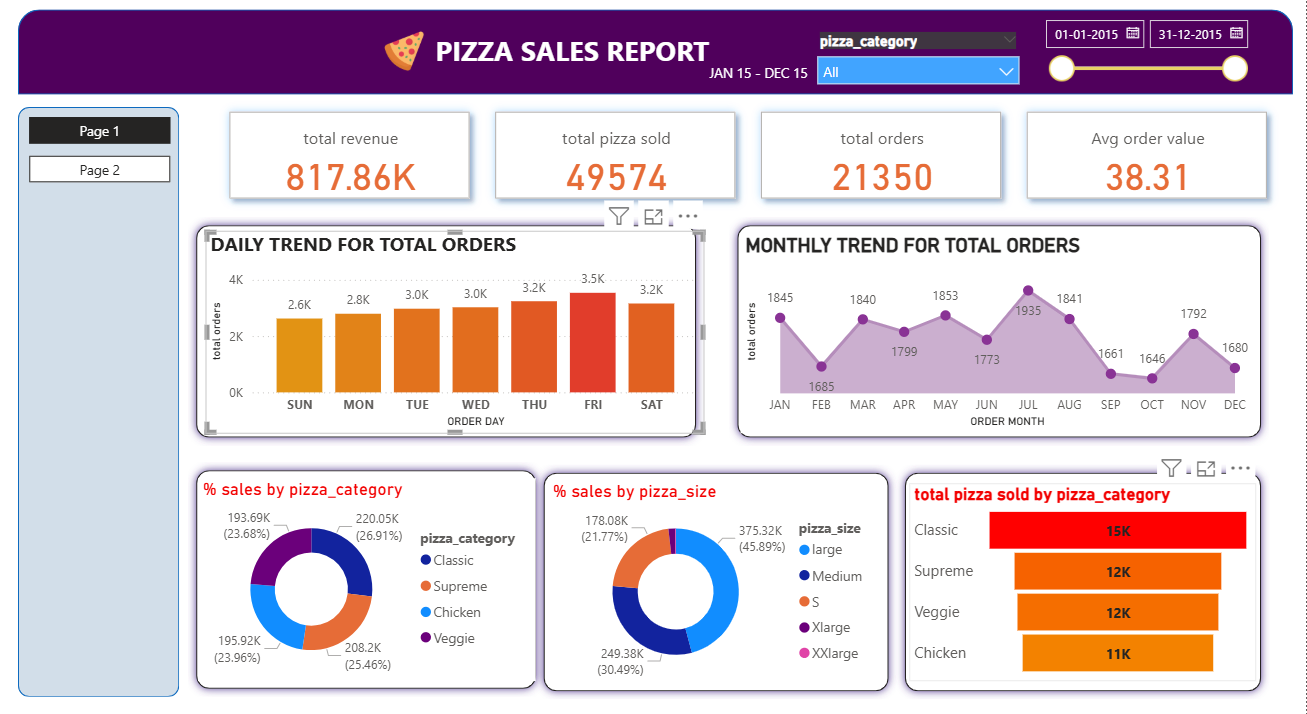

The dashboard page shown, as its layout file describes it:
{"tool":"powerbi","page":{"name":"Page 1","canvas":[1280,720],"ordinal":0},"visuals":[{"type":"cardVisual","fields":{"Data":["pizza_sales.total revenue","pizza_sales.total pizza sold","pizza_sales.total orders","pizza_sales.Avg order value"]},"box":[189.5,100.3,1090.8,119.8],"z":0},{"type":"shape","box":[19.6,17.1,1247.3,83.2],"z":1000},{"type":"textbox","box":[423.1,34.2,292.3,50.1],"z":2000},{"type":"textbox","box":[690.9,64.8,117.4,31.8],"z":3000},{"type":"image","box":[244.6,33,305.7,50.1],"z":4000},{"type":"shape","box":[185.9,220.1,505,223.8],"z":5000},{"type":"columnChart","title":"DAILY TREND FOR TOTAL ORDERS","fields":{"Category":["pizza_sales.ORDER DAY"],"Y":["pizza_sales.total orders"]},"box":[203,233.6,487.9,198.1],"z":6000},{"type":"shape","box":[715.4,220.1,528.3,223.8],"z":7000},{"type":"areaChart","title":"MONTHLY TREND FOR TOTAL ORDERS","fields":{"Category":["pizza_sales.ORDER MONTH"],"Y":["pizza_sales.total orders"]},"box":[726.4,237.2,505,194.4],"z":8000},{"type":"shape","box":[185.9,459.8,348.5,229.9],"z":9000},{"type":"shape","box":[879.2,462.2,364.4,229.9],"z":10000},{"type":"shape","box":[525.8,462.2,353.4,229.9],"z":11000},{"type":"slicer","title":"% Sales by pizza_category","fields":{"Values":["pizza_sales.pizza_category"]},"box":[791.2,34.2,217.7,67.3],"z":12000},{"type":"donutChart","title":"% sales by pizza_size","fields":{"Category":["pizza_sales.pizza_size"],"Y":["pizza_sales.total revenue"]},"box":[538,478.1,330.2,198.1],"z":13000},{"type":"funnel","fields":{"Category":["pizza_sales.pizza_category"],"Y":["pizza_sales.total pizza sold"]},"box":[891.4,480.6,339.9,193.2],"z":14000},{"type":"shape","box":[19.6,112.5,157.7,577.2],"z":15000},{"type":"slicer","title":"% Sales by pizza_category","fields":{"Values":["pizza_sales.order_date"]},"box":[1012.5,17.1,218.9,79.5],"z":16000},{"type":"donutChart","title":"% sales by pizza_category","fields":{"Category":["pizza_sales.pizza_category"],"Y":["pizza_sales.total revenue"]},"box":[195.7,475.7,330.2,198.1],"z":17000},{"type":"pageNavigator","box":[30.6,122.3,138.2,26.9],"z":18000},{"type":"pageNavigator","box":[30.6,160.2,138.2,26.9],"z":19000}]}

Visuals, with their boxes in screenshot pixels (x1, y1, x2, y2), scaled from the page's 1280x720 canvas onto the 1307x714 screenshot:
cardVisual - pizza_sales.total revenue x pizza_sales.total pizza sold: BBox(193, 99, 1306, 218)
shape: BBox(20, 17, 1294, 99)
textbox: BBox(432, 34, 730, 84)
textbox: BBox(705, 64, 825, 96)
image: BBox(250, 33, 562, 82)
shape: BBox(190, 218, 705, 440)
"DAILY TREND FOR TOTAL ORDERS" columnChart: BBox(207, 232, 705, 428)
shape: BBox(730, 218, 1270, 440)
"MONTHLY TREND FOR TOTAL ORDERS" areaChart: BBox(742, 235, 1257, 428)
shape: BBox(190, 456, 546, 684)
shape: BBox(898, 458, 1270, 686)
shape: BBox(537, 458, 898, 686)
"% Sales by pizza_category" slicer: BBox(808, 34, 1030, 101)
"% sales by pizza_size" donutChart: BBox(549, 474, 887, 671)
funnel - pizza_sales.pizza_category x pizza_sales.total pizza sold: BBox(910, 477, 1257, 668)
shape: BBox(20, 112, 181, 684)
"% Sales by pizza_category" slicer: BBox(1034, 17, 1257, 96)
"% sales by pizza_category" donutChart: BBox(200, 472, 537, 668)
pageNavigator: BBox(31, 121, 172, 148)
pageNavigator: BBox(31, 159, 172, 186)
